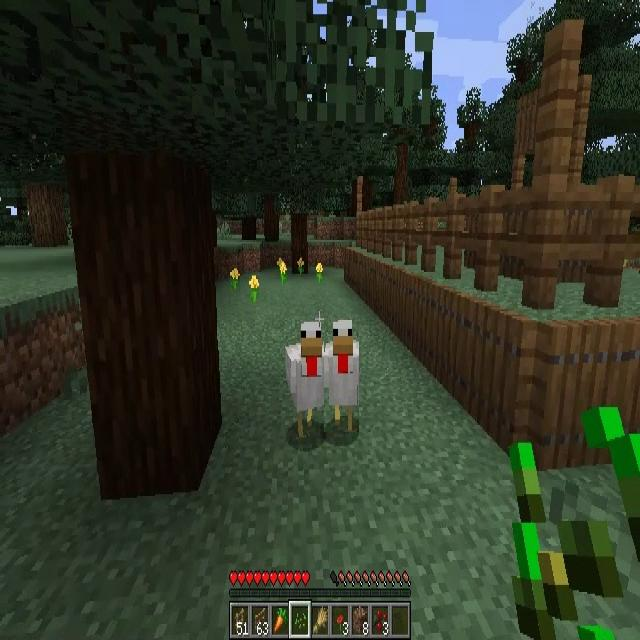duck: (285, 322, 326, 438), (324, 318, 359, 432)
flower: (249, 276, 259, 304), (277, 258, 287, 284), (230, 266, 240, 292), (298, 256, 305, 276), (316, 262, 322, 284)
